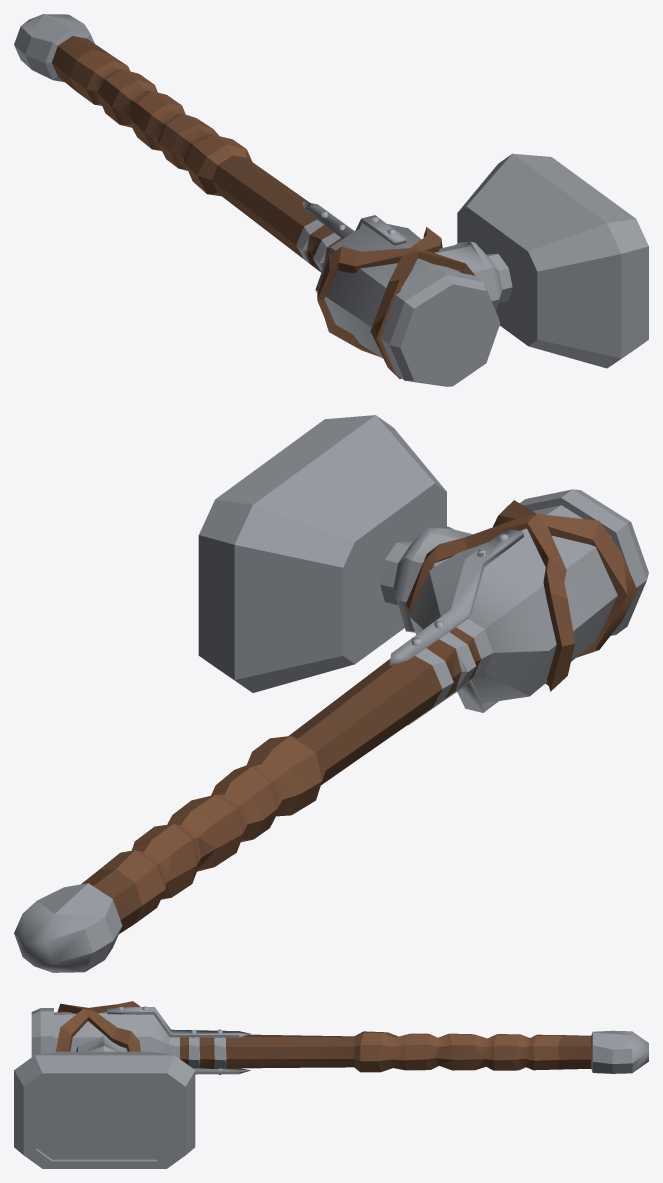
Rendered from mace.glb.
3 renders of one model, top to bottom at view 1: azimuth 30°, elevation 25°; view 2: azimuth 150°, elevation 25°; view 3: azimuth 270°, elevation 25°, orthographic. The views are drawn at different scales.
Visible parts, largest first — view 1: Hammer_small_Cylinder.013; view 2: Hammer_small_Cylinder.013; view 3: Hammer_small_Cylinder.013.
Boxes of the visible parts, <box> form: Hammer_small_Cylinder.013: <box>14,14,648,386</box>; Hammer_small_Cylinder.013: <box>14,415,648,972</box>; Hammer_small_Cylinder.013: <box>14,1001,648,1168</box>.
Size of the model in its own units: 0.2379 by 0.1289 by 0.6928.
